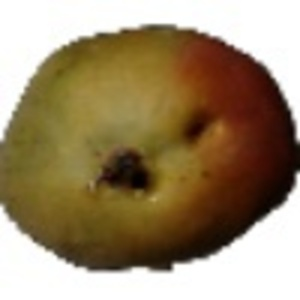mamão: (4, 21, 293, 277)
